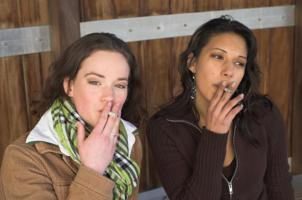person: (148, 18, 294, 200)
